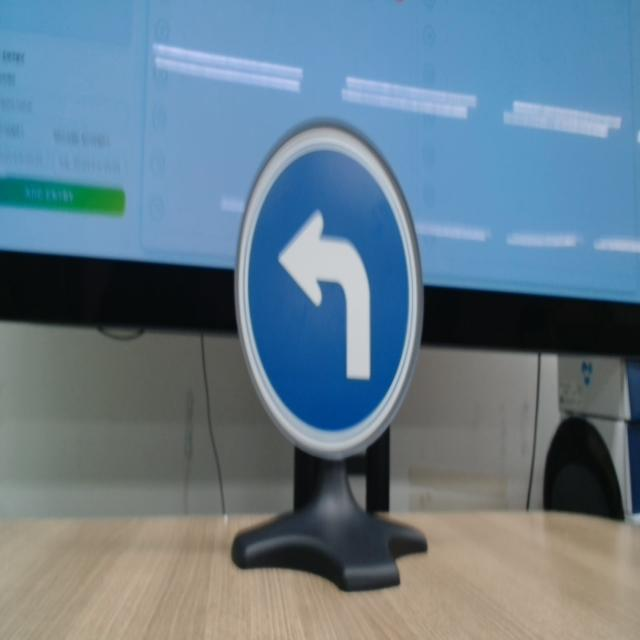left_direction: (225, 88, 448, 476)
